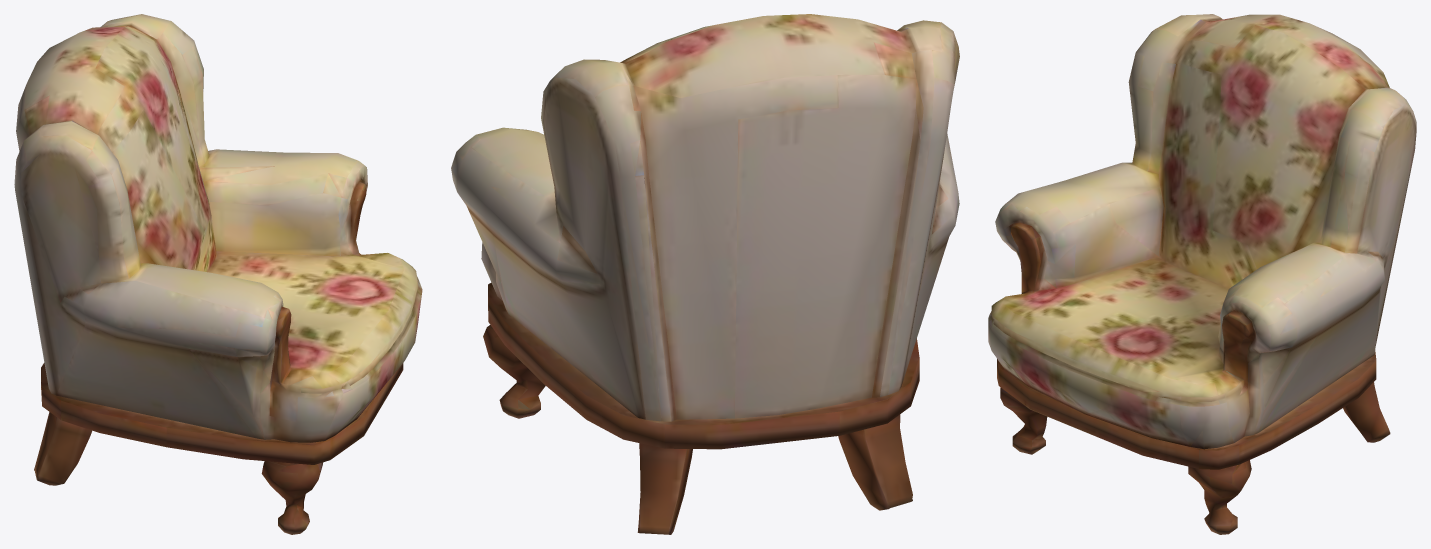
The model's file is wyn_furn_cottage_armchair.glb.
3 views of the same model, side by side, from view 1: azimuth 30°, elevation 25°; view 2: azimuth 150°, elevation 25°; view 3: azimuth 270°, elevation 25° (orthographic). The views are drawn at different scales.
Parts seen in each view (by area): view 1: tripo_node_5167e9e4-2452-4f84-8595-92320301de85; view 2: tripo_node_5167e9e4-2452-4f84-8595-92320301de85; view 3: tripo_node_5167e9e4-2452-4f84-8595-92320301de85.
Boxes of the visible parts, x1,y1,x2,y2 form: tripo_node_5167e9e4-2452-4f84-8595-92320301de85: (14, 14, 422, 534); tripo_node_5167e9e4-2452-4f84-8595-92320301de85: (451, 14, 959, 534); tripo_node_5167e9e4-2452-4f84-8595-92320301de85: (988, 14, 1416, 534).
Size of the model in its own units: 1.1 by 1.1 by 1.1.
Materials: 1 (1 with a texture image).
